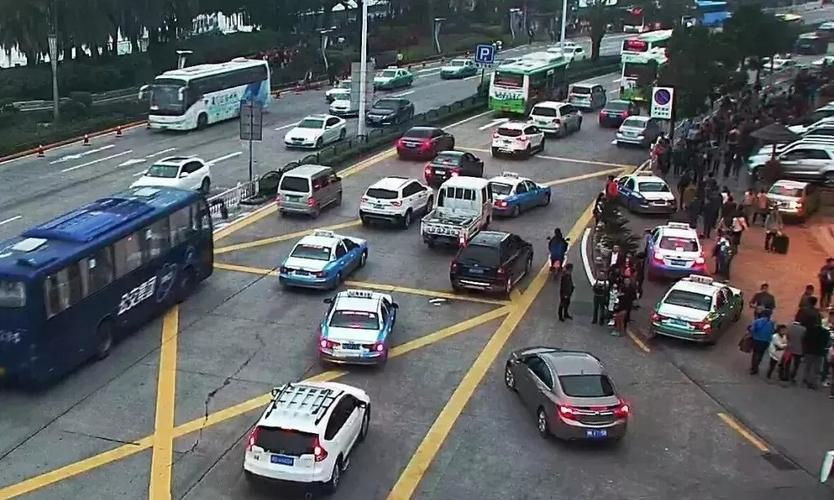bus: (3, 197, 247, 345), (142, 49, 276, 133), (487, 43, 578, 116)
car: (238, 361, 391, 496), (513, 343, 631, 442), (647, 265, 734, 341), (460, 225, 541, 302), (285, 220, 370, 293), (262, 162, 360, 225), (316, 283, 388, 365), (612, 162, 693, 223), (359, 167, 436, 224), (119, 145, 211, 191), (426, 179, 492, 243), (484, 115, 556, 167), (319, 75, 382, 134), (286, 109, 358, 152), (484, 173, 554, 211), (644, 218, 690, 273), (530, 90, 589, 131), (400, 122, 454, 158), (617, 106, 663, 147), (354, 97, 417, 125), (427, 148, 478, 181), (359, 64, 411, 90), (603, 97, 631, 134), (434, 57, 477, 80)
person: (777, 290, 813, 387), (755, 298, 796, 379)
